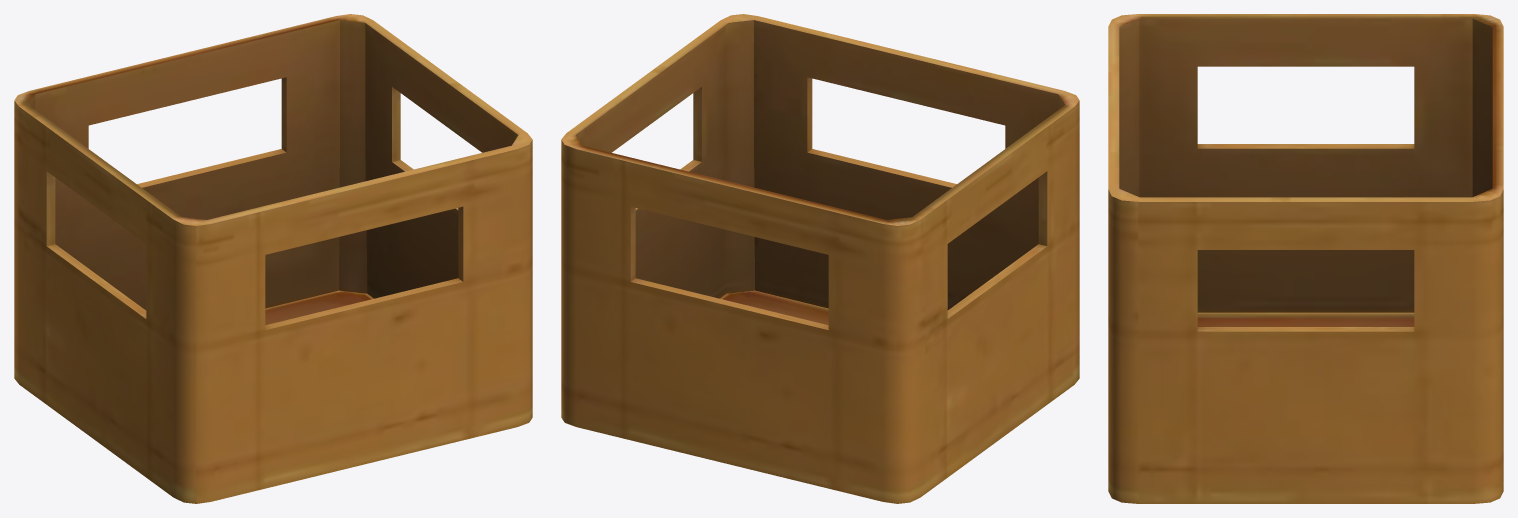
3 renders of one model, left to right at view 1: azimuth 30°, elevation 25°; view 2: azimuth 150°, elevation 25°; view 3: azimuth 270°, elevation 25°, orthographic. The views are drawn at different scales.
Parts seen in each view (by area): view 1: body0_model0_lod0_mesh0; view 2: body0_model0_lod0_mesh0; view 3: body0_model0_lod0_mesh0.
Part boxes in pixels (x1,y1,x2,y2): body0_model0_lod0_mesh0: (14, 14, 532, 503); body0_model0_lod0_mesh0: (561, 14, 1079, 503); body0_model0_lod0_mesh0: (1108, 14, 1503, 503).
Bounding box in the file's own units: 36 × 27 × 32.
Materials: 1 (1 with a texture image).
